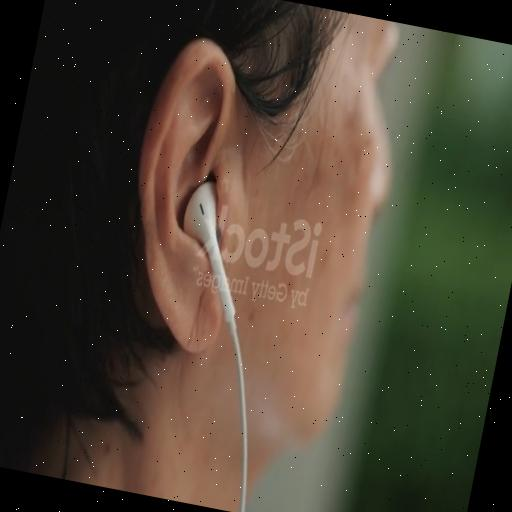earphone: (109, 119, 312, 512)
